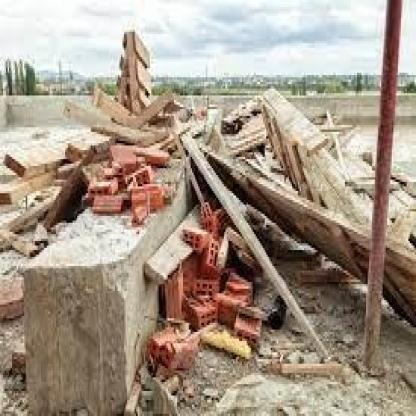brick: (144, 202, 268, 366), (77, 141, 177, 227), (124, 358, 179, 414), (1, 278, 25, 322)
